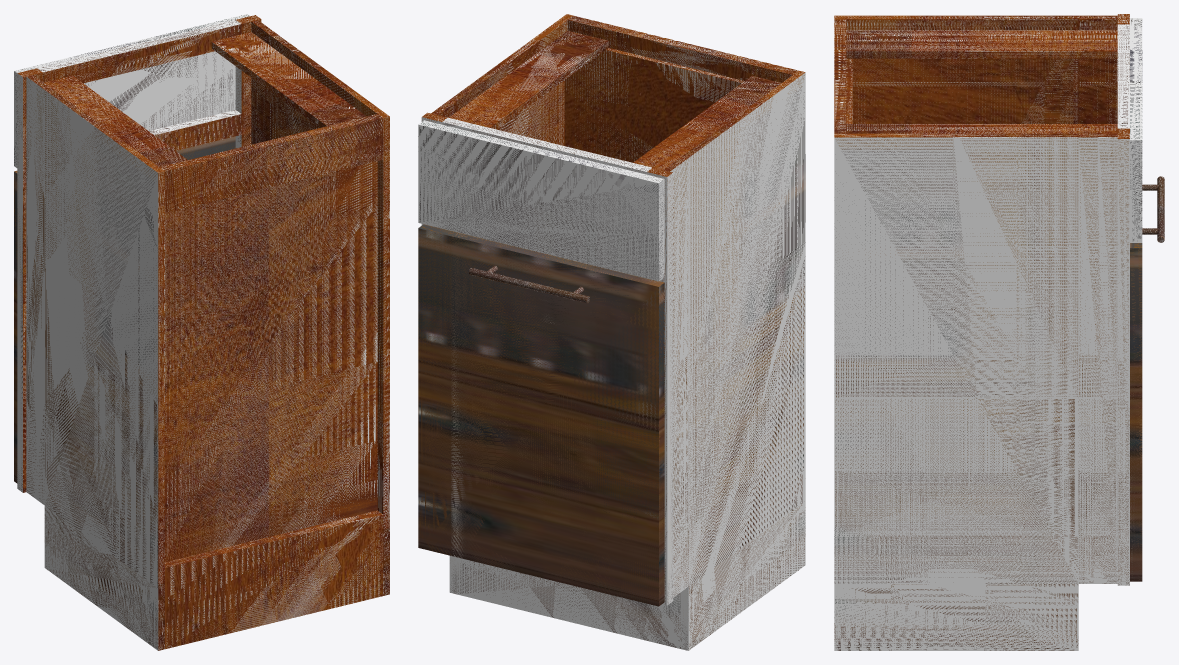
3 renders of one model, left to right at view 1: azimuth 30°, elevation 25°; view 2: azimuth 150°, elevation 25°; view 3: azimuth 270°, elevation 25°, orthographic. The views are drawn at different scales.
Parts seen in each view (by area): view 1: mesh4_mesh4-geometry, mesh7_mesh7-geometry, mesh12_mesh12-geometry, mesh3_mesh3-geometry, mesh16_mesh16-geometry, mesh10_mesh10-geometry, mesh6_mesh6-geometry, mesh8_mesh8-geometry, mesh5_mesh5-geometry, mesh2_mesh2-geometry, mesh14_mesh14-geometry, mesh15_mesh15-geometry (+3 smaller); view 2: mesh20_mesh20-geometry, mesh7_mesh7-geometry, mesh16_mesh16-geometry, mesh4_mesh4-geometry, mesh13_mesh13-geometry, mesh8_mesh8-geometry, mesh6_mesh6-geometry, mesh14_mesh14-geometry, mesh3_mesh3-geometry, mesh2_mesh2-geometry, mesh10_mesh10-geometry, mesh15_mesh15-geometry (+2 smaller); view 3: mesh10_mesh10-geometry, mesh7_mesh7-geometry, mesh9_mesh9-geometry, mesh11_mesh11-geometry, mesh15_mesh15-geometry, mesh2_mesh2-geometry, mesh20_mesh20-geometry, mesh6_mesh6-geometry, mesh16_mesh16-geometry, mesh14_mesh14-geometry, mesh3_mesh3-geometry, mesh5_mesh5-geometry (+1 smaller).
Boxes of the visible parts, x1=… form: mesh4_mesh4-geometry: x1=165, y1=161, x2=377, y2=562; mesh7_mesh7-geometry: x1=44, y1=88, x2=164, y2=588; mesh12_mesh12-geometry: x1=165, y1=510, x2=383, y2=649; mesh3_mesh3-geometry: x1=159, y1=114, x2=383, y2=212; mesh16_mesh16-geometry: x1=14, y1=14, x2=249, y2=167; mesh10_mesh10-geometry: x1=269, y1=33, x2=389, y2=533; mesh6_mesh6-geometry: x1=26, y1=75, x2=50, y2=504; mesh8_mesh8-geometry: x1=44, y1=506, x2=164, y2=650; mesh5_mesh5-geometry: x1=37, y1=20, x2=241, y2=150; mesh2_mesh2-geometry: x1=17, y1=15, x2=261, y2=492; mesh14_mesh14-geometry: x1=211, y1=32, x2=366, y2=127; mesh15_mesh15-geometry: x1=44, y1=75, x2=187, y2=166; mesh20_mesh20-geometry: x1=418, y1=224, x2=664, y2=606; mesh7_mesh7-geometry: x1=682, y1=70, x2=805, y2=585; mesh16_mesh16-geometry: x1=418, y1=120, x2=664, y2=281; mesh4_mesh4-geometry: x1=564, y1=48, x2=744, y2=162; mesh13_mesh13-geometry: x1=456, y1=557, x2=681, y2=649; mesh8_mesh8-geometry: x1=681, y1=501, x2=805, y2=650; mesh6_mesh6-geometry: x1=663, y1=156, x2=688, y2=597; mesh14_mesh14-geometry: x1=449, y1=31, x2=608, y2=129; mesh3_mesh3-geometry: x1=567, y1=15, x2=798, y2=82; mesh2_mesh2-geometry: x1=421, y1=112, x2=673, y2=605; mesh10_mesh10-geometry: x1=450, y1=14, x2=572, y2=145; mesh15_mesh15-geometry: x1=633, y1=75, x2=781, y2=169; mesh10_mesh10-geometry: x1=834, y1=133, x2=1078, y2=583; mesh7_mesh7-geometry: x1=834, y1=15, x2=1078, y2=123; mesh9_mesh9-geometry: x1=1078, y1=133, x2=1117, y2=583; mesh11_mesh11-geometry: x1=834, y1=584, x2=1078, y2=650; mesh15_mesh15-geometry: x1=846, y1=30, x2=1117, y2=58; mesh2_mesh2-geometry: x1=1117, y1=14, x2=1129, y2=585; mesh20_mesh20-geometry: x1=1130, y1=243, x2=1142, y2=581; mesh6_mesh6-geometry: x1=1078, y1=15, x2=1117, y2=123; mesh16_mesh16-geometry: x1=1130, y1=18, x2=1142, y2=242; mesh14_mesh14-geometry: x1=846, y1=124, x2=1117, y2=133; mesh3_mesh3-geometry: x1=834, y1=19, x2=846, y2=133; mesh5_mesh5-geometry: x1=1117, y1=24, x2=1129, y2=128.
Size of the model in its own units: 0.4109 by 0.7875 by 0.4594.
